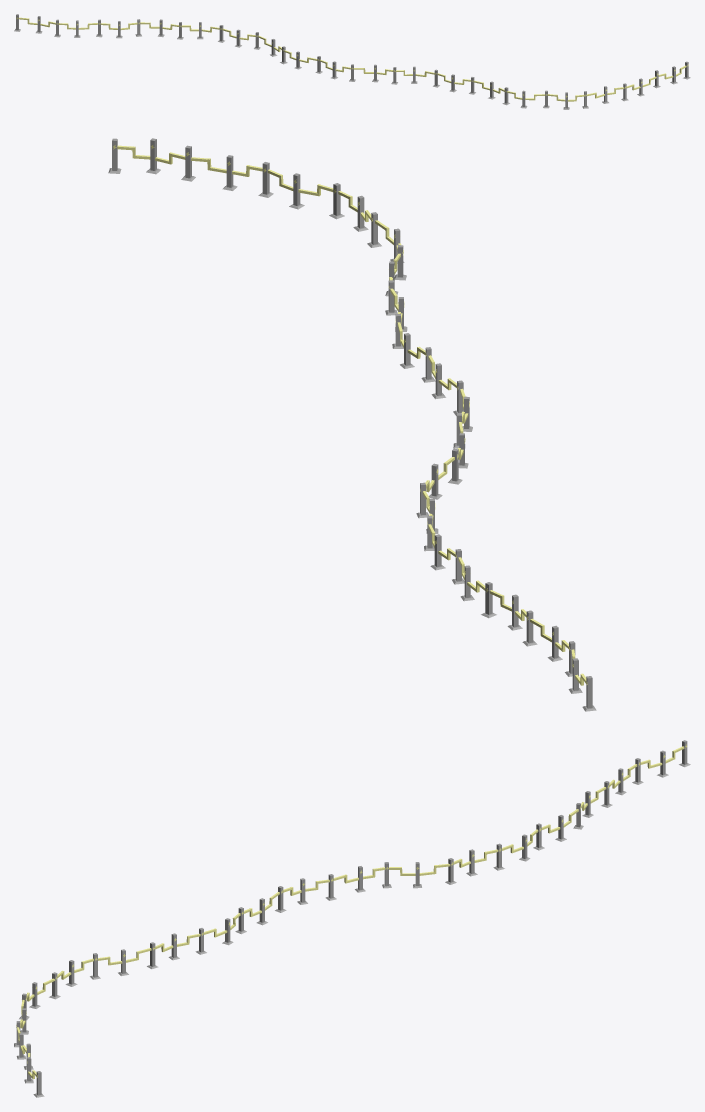
Rendered from CharlesFence_Long.fbx.
3 views of the same model, one above another, from view 1: azimuth 30°, elevation 25°; view 2: azimuth 150°, elevation 25°; view 3: azimuth 270°, elevation 25° (orthographic). The views are drawn at different scales.
Parts seen in each view (by area): view 1: CharlesFence_Long; view 2: CharlesFence_Long; view 3: CharlesFence_Long.
Part boxes in pixels (box(x1,y1,x2,y2)): CharlesFence_Long: box(14, 14, 690, 109); CharlesFence_Long: box(108, 138, 596, 711); CharlesFence_Long: box(14, 740, 690, 1097).
Size of the model in its own units: 9071 by 334 by 7730.
